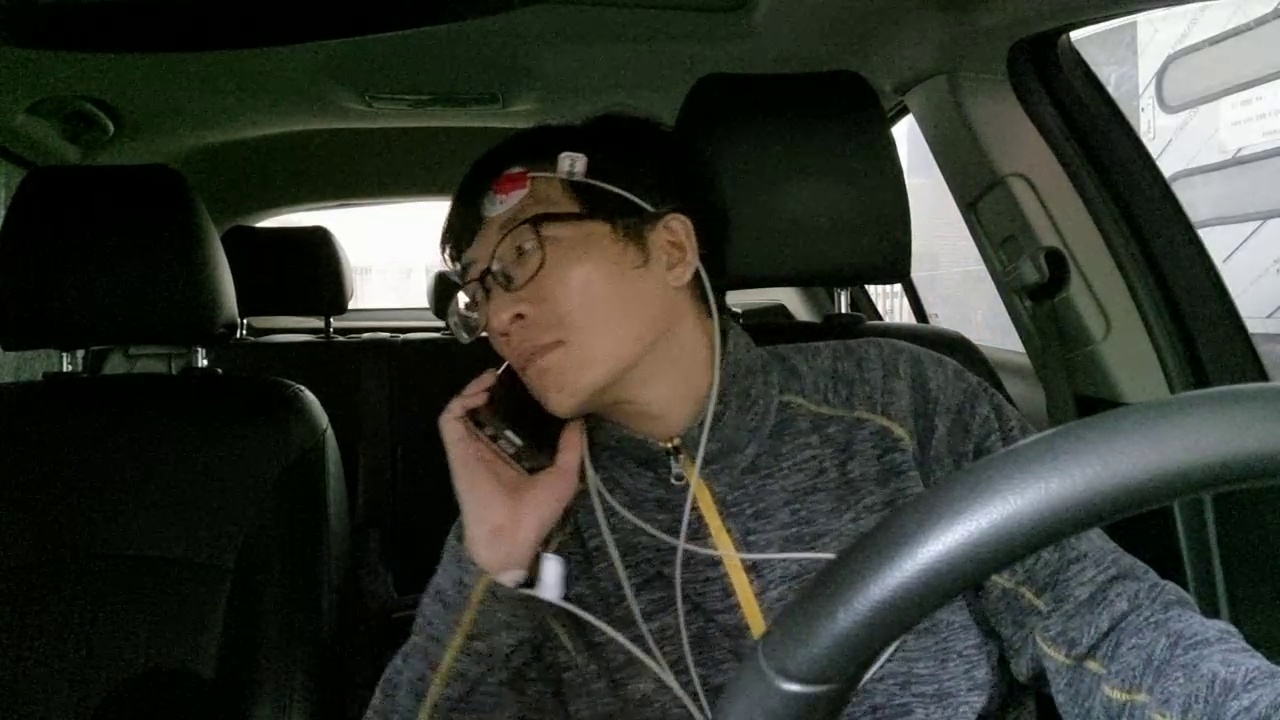phone: (432, 325, 602, 499)
